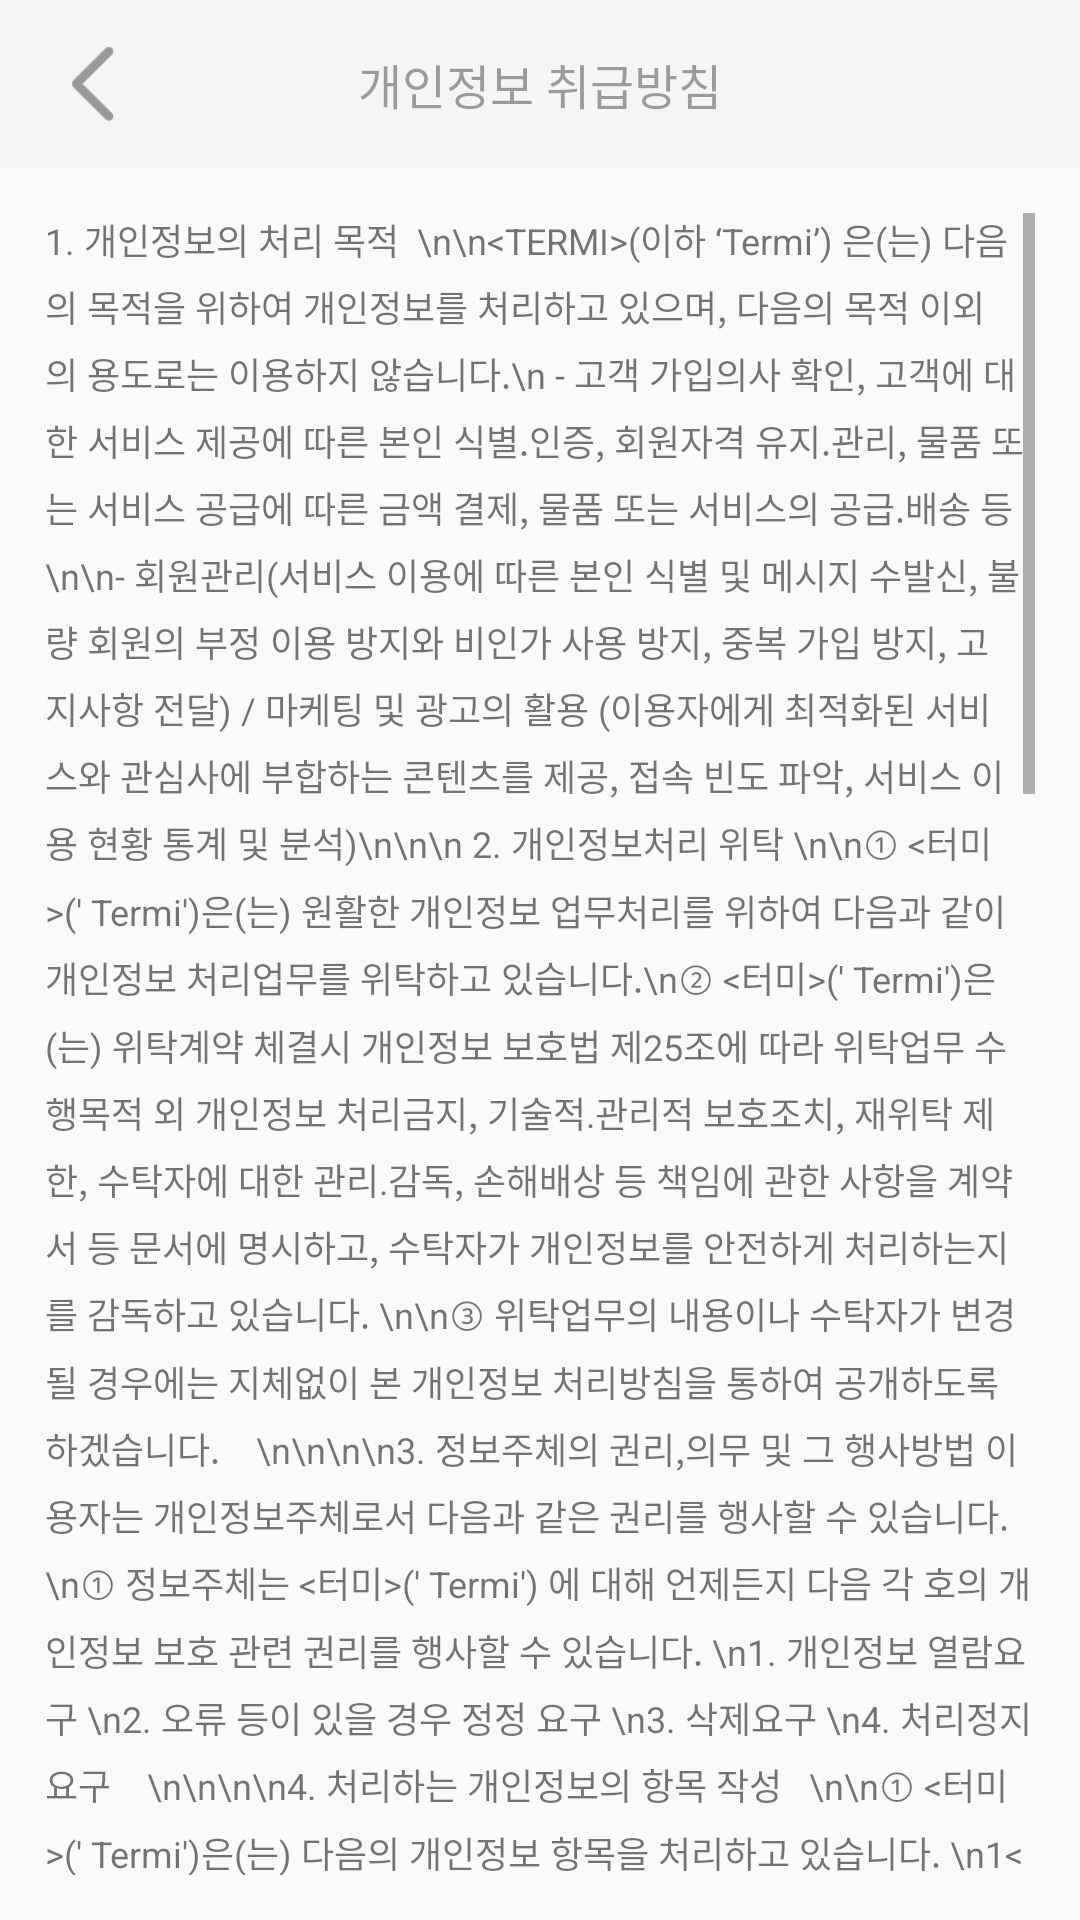

Named icons in this screenshot (1080 x 1920) and their bounding boxes, (x1, y1, x2, y2):
back: (72, 47, 113, 121)
